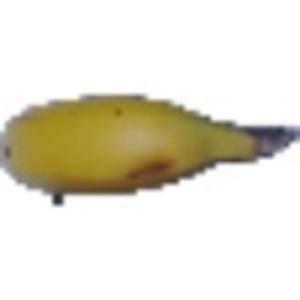banana: (1, 84, 288, 198)
